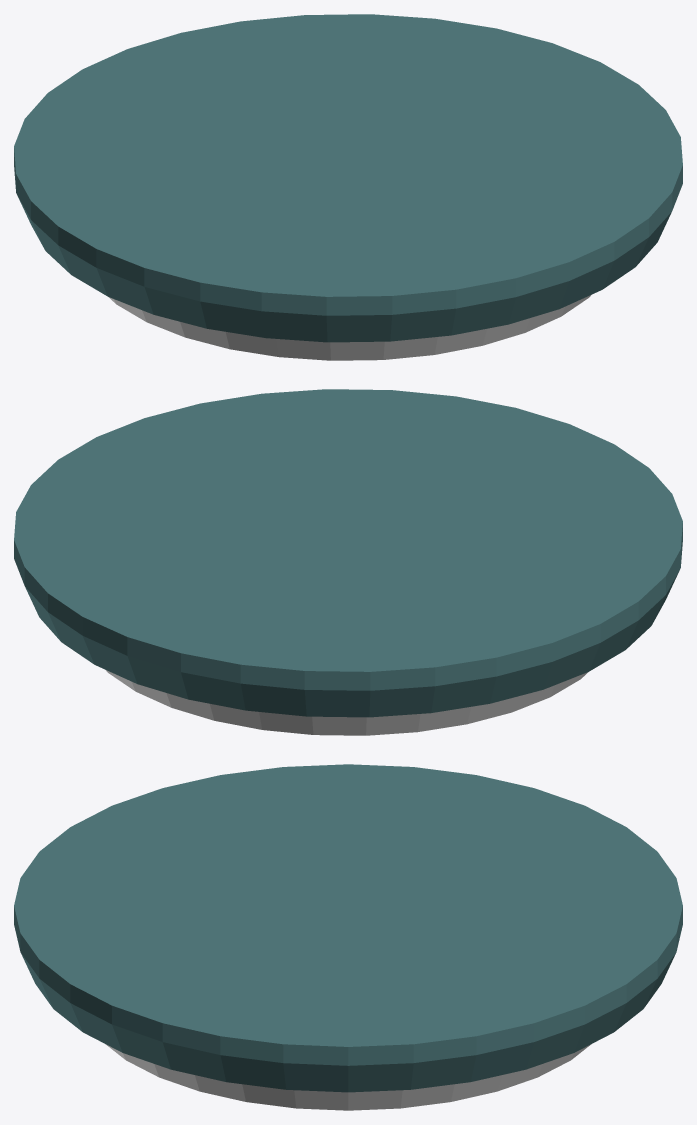
Rendered from lampara de techo.fbx.
3 renders of one model, top to bottom at view 1: azimuth 30°, elevation 25°; view 2: azimuth 150°, elevation 25°; view 3: azimuth 270°, elevation 25°, orthographic.
Visible parts, largest first — view 1: Cylinder; view 2: Cylinder; view 3: Cylinder.
Part boxes in pixels (x1=…): Cylinder: x1=14, y1=14, x2=682, y2=360; Cylinder: x1=14, y1=389, x2=682, y2=735; Cylinder: x1=14, y1=764, x2=682, y2=1110.
Bounding box in the file's own units: 200 × 34.84 × 200.
